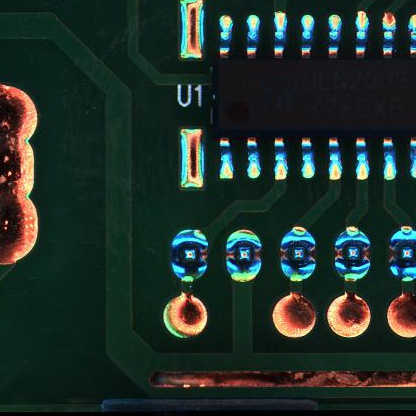spot: (278, 227, 319, 283), (332, 226, 373, 282), (225, 228, 264, 284), (172, 228, 208, 282), (387, 225, 416, 282)
